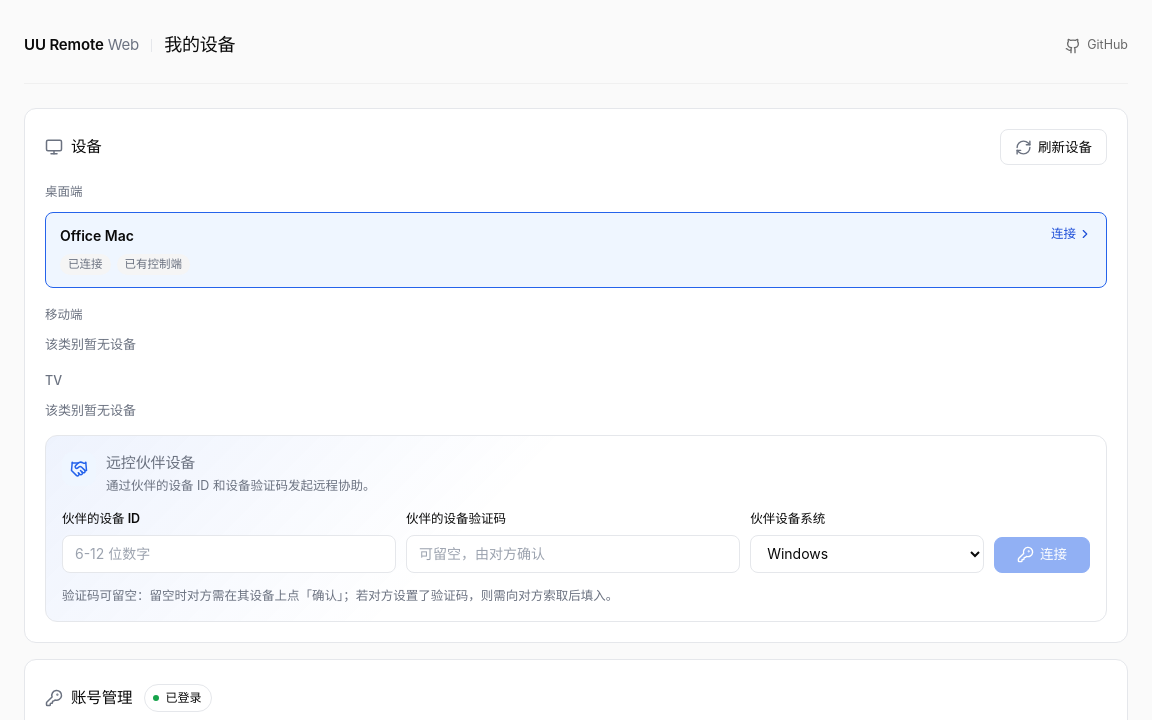
Test: App console › uses a consumer remote-control flow: login page, device list, then focused control page
Expected: the heading "我的设备" is shown, [151,35,235,56]
Step 1. Click the button "连接 Office Mac" → (97, 235), box [45,212,1107,288]
(page scrolled)
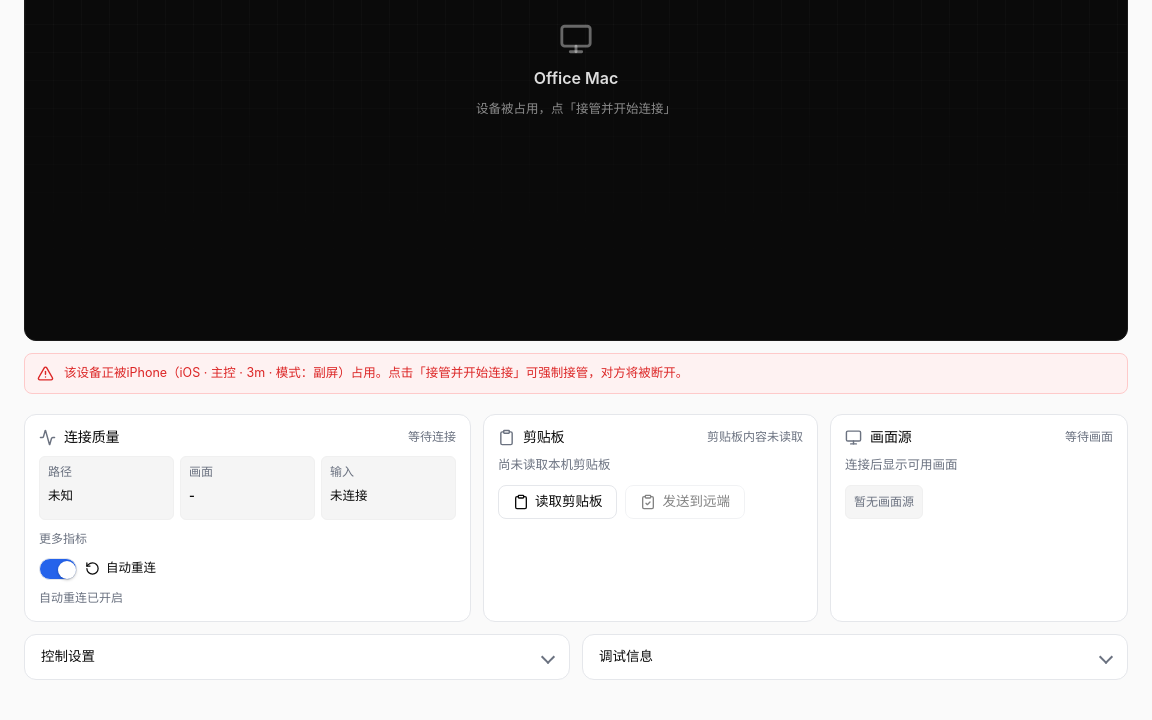
Result: the heading "我的设备" is gone
Result: the heading "控制设置" is shown at [41,648,95,664]
Result: the heading "调试信息" is shown at [599,648,653,664]
